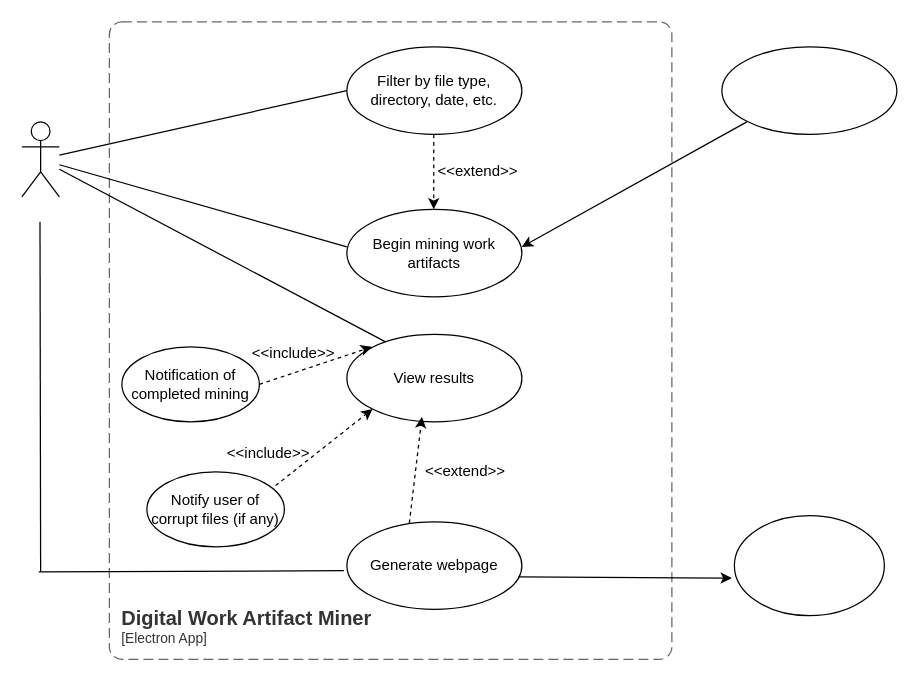
The diagram is 919 pixels wide and 681 high, and some of its shapes have lost their labels. The shapes that lost their labels are listed below. From the top down, each one's centre as x and y in pixels, then its label:
At point (809, 90): "Select directories and/or files".
At point (40, 159): "Actor".
At point (808, 565): "Host via GitHub pages".
